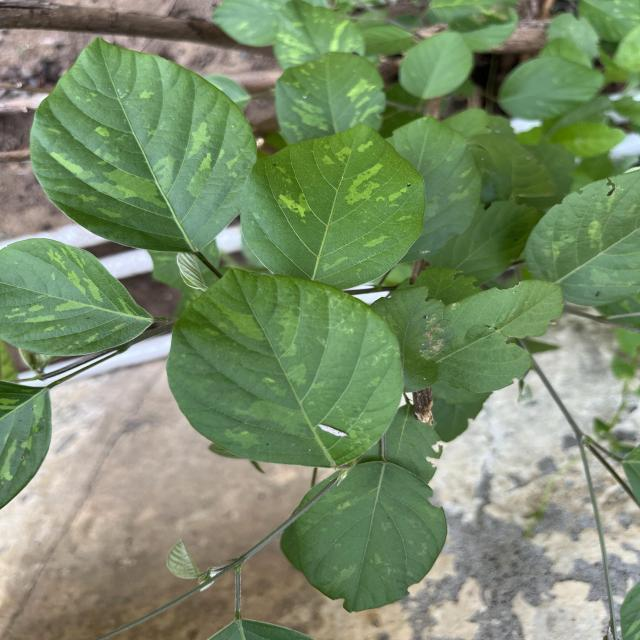Desmodium gangeticum: (28, 35, 262, 257), (163, 263, 410, 471), (236, 120, 430, 293), (0, 236, 156, 359)
